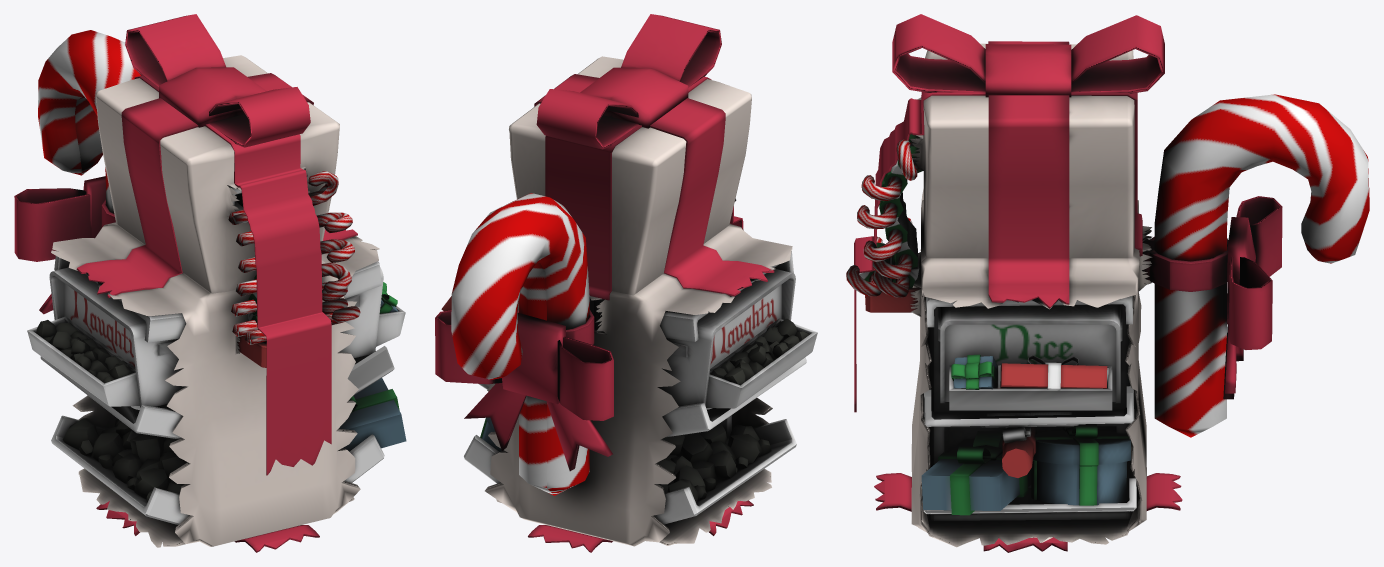
3 views of the same model, side by side, from view 1: azimuth 30°, elevation 25°; view 2: azimuth 150°, elevation 25°; view 3: azimuth 270°, elevation 25° (orthographic). The views are drawn at different scales.
Parts seen in each view (by area): view 1: giftspenser; view 2: giftspenser; view 3: giftspenser.
Boxes of the visible parts, x1,y1,x2,y2 form: giftspenser: (14, 14, 406, 552); giftspenser: (435, 14, 817, 552); giftspenser: (846, 14, 1369, 552).
Size of the model in its own units: 3346 by 4582 by 4611.
Materials: 1 (1 with a texture image).
